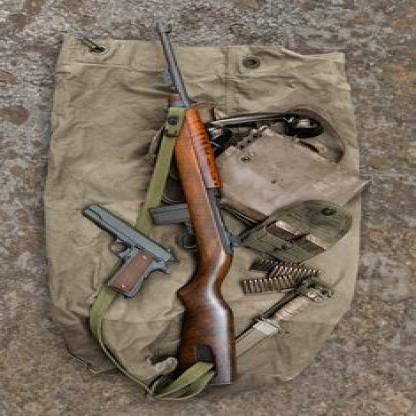Gun: (148, 20, 244, 390)
Knife: (234, 272, 334, 358)
Pistol: (78, 202, 182, 300)
